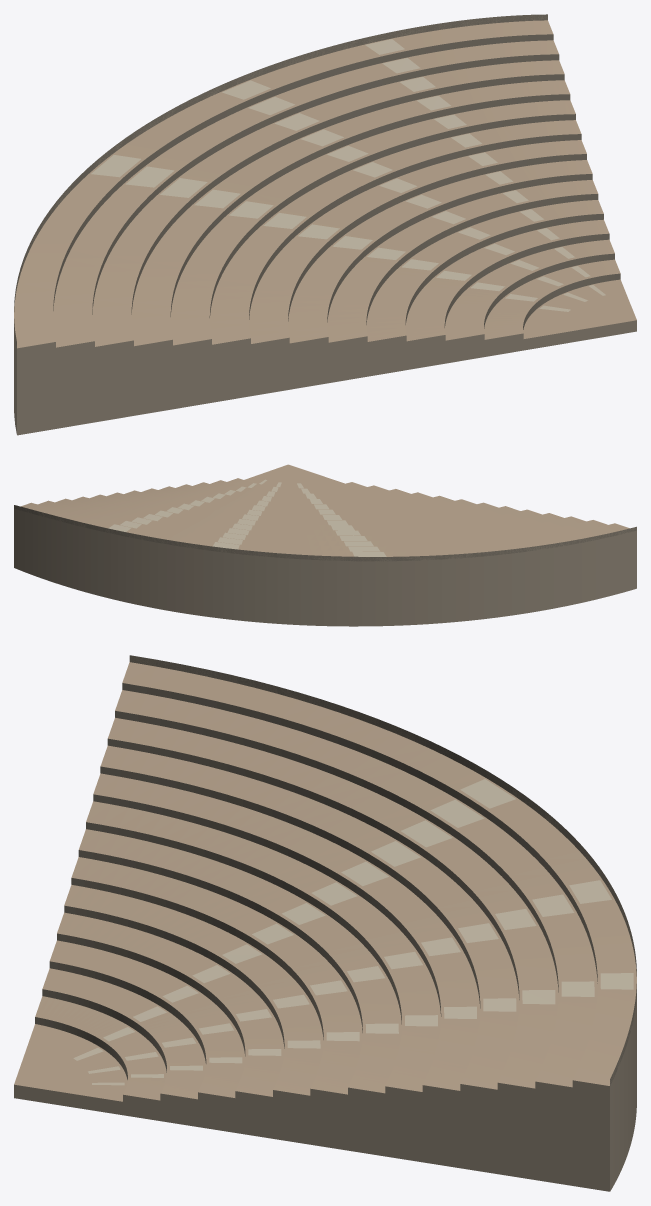
Rendered from odeon.obj.
3 renders of one model, top to bottom at view 1: azimuth 30°, elevation 25°; view 2: azimuth 150°, elevation 25°; view 3: azimuth 270°, elevation 25°, orthographic. The views are drawn at different scales.
Visible parts, largest first — view 1: odeon_path_walksurface, odeon_structure, odeon_walls, odeon_aisles; view 2: odeon_walls, odeon_path_walksurface, odeon_aisles, odeon_structure; view 3: odeon_path_walksurface, odeon_walls, odeon_structure, odeon_aisles.
Part boxes in pixels (x1,y1,x2,y2): odeon_path_walksurface: (14,20,636,348); odeon_structure: (14,14,620,345); odeon_walls: (14,14,636,435); odeon_aisles: (91,39,605,311); odeon_walls: (14,505,636,626); odeon_path_walksurface: (21,464,629,556); odeon_aisles: (108,479,386,556); odeon_structure: (14,505,636,561); odeon_path_walksurface: (14,662,636,1101); odeon_walls: (14,655,636,1191); odeon_structure: (35,655,636,1085); odeon_aisles: (73,779,633,1085).
Bounding box in the file's own units: 45.36 × 6.3 × 28.04.
